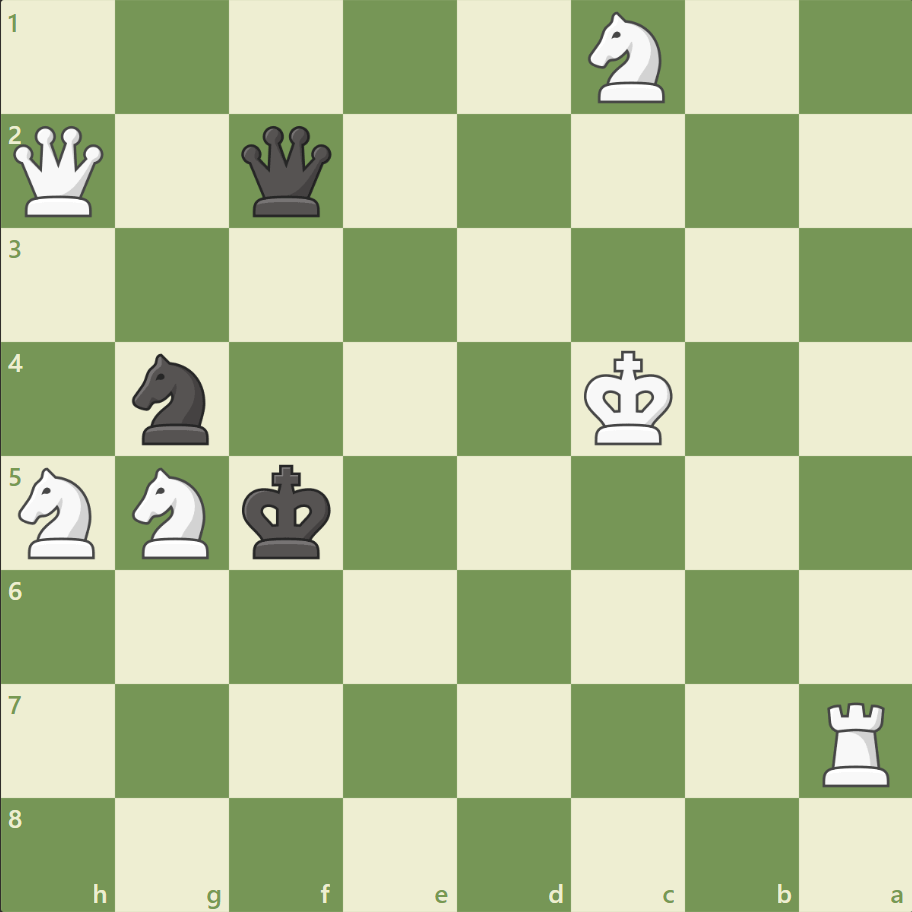K: (579, 344, 679, 452)
N: (124, 461, 222, 564), (11, 461, 108, 564), (579, 7, 676, 110)
Q: (10, 122, 109, 222)
R: (814, 693, 897, 790)
k: (238, 458, 338, 566)
n: (124, 348, 222, 450)
q: (237, 122, 336, 222)
